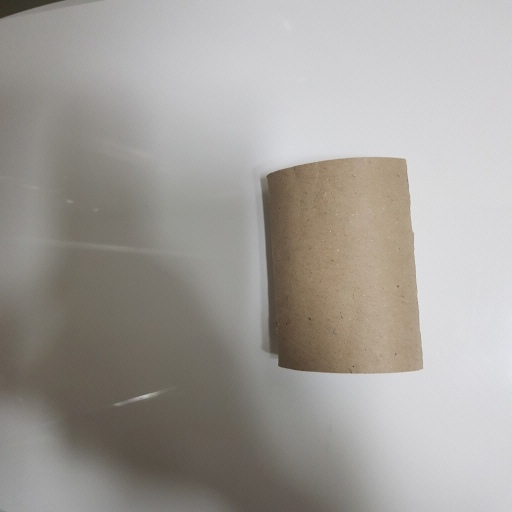Paper_0: (251, 147, 436, 384)
